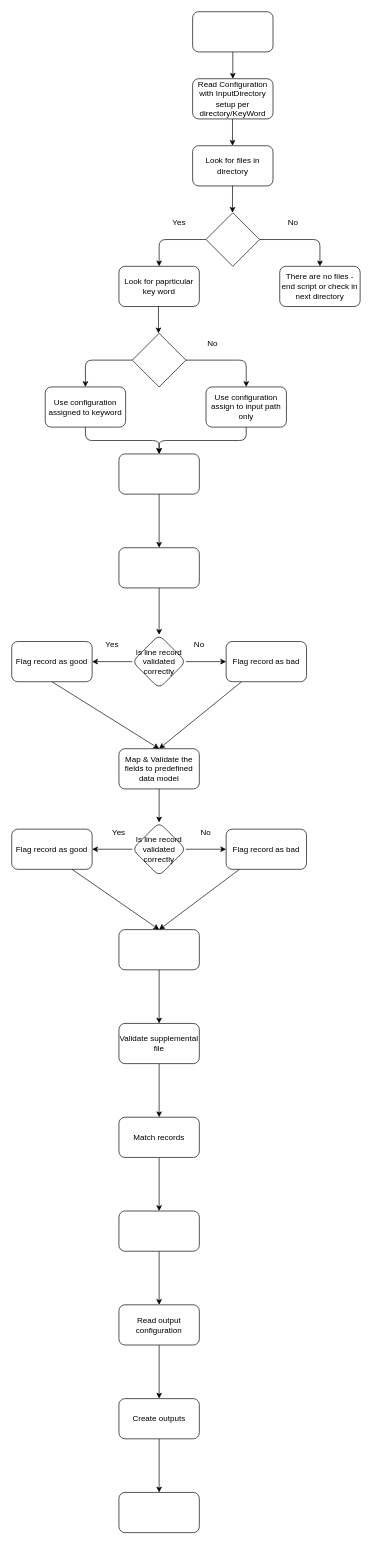
The diagram is 372 pixels wide and 1544 high, and some of its shapes have lost their labels. The shapes that lost their labels are listed below. From the top down, each one's centre as x and y in pixels, then its label:
(232,31): Start Script
(232,239): Is File in Direcotry
(159,360): Is Keyword found
(158,473): Read file according to configuration found
(158,567): Validate the file format per line
(158,949): Read supplemental file
(158,1230): Merge fields
(158,1512): End Script / Start again
